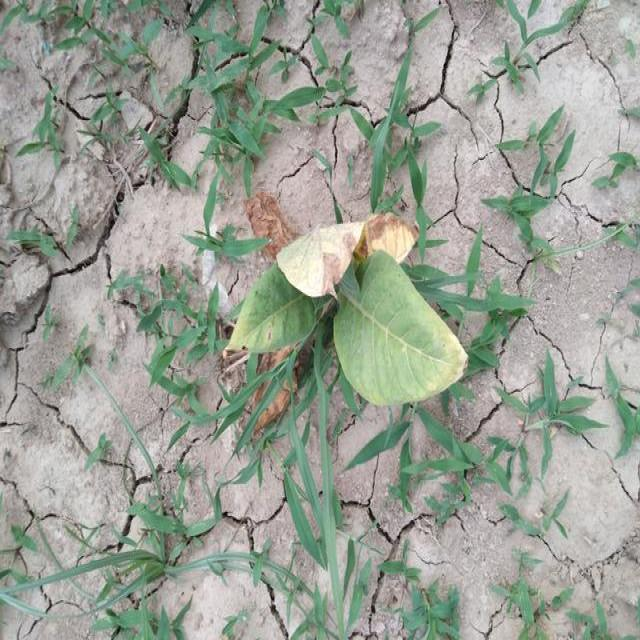crop: (221, 185, 463, 408)
